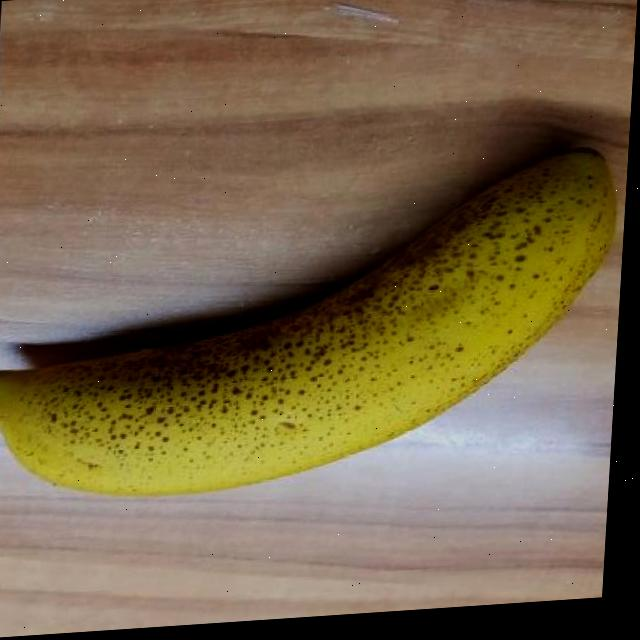banana: (0, 147, 614, 506)
